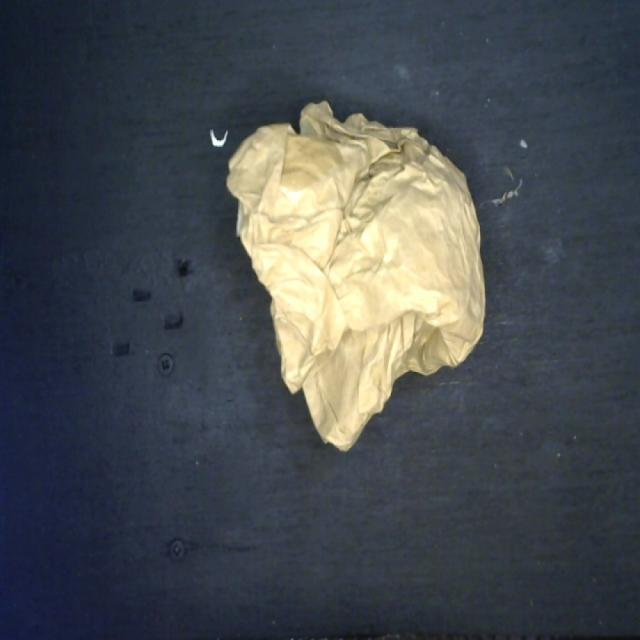biodegradable: (223, 94, 489, 456)
